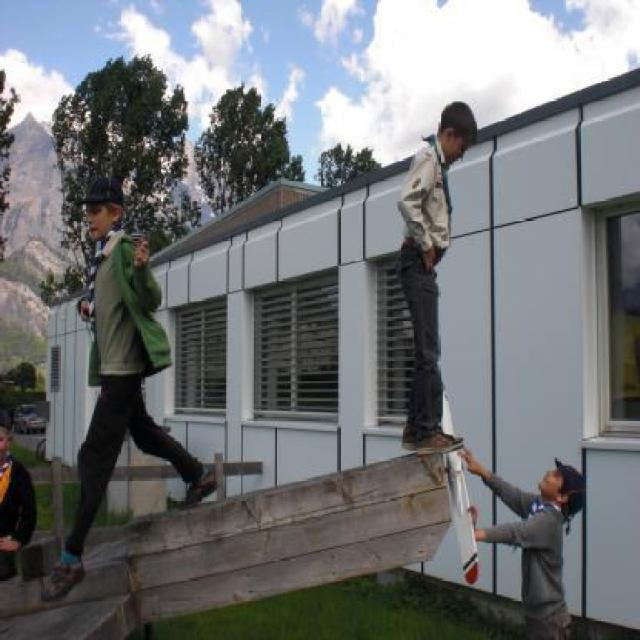Person: (44, 176, 219, 602), (389, 111, 471, 491), (465, 439, 589, 633), (0, 403, 35, 582)
